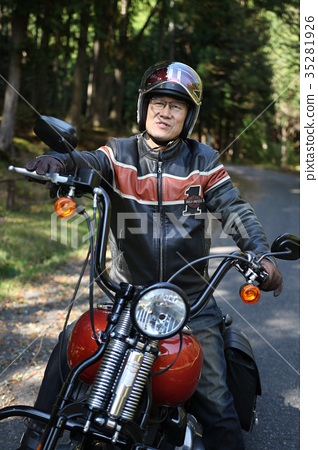helmet: (134, 67, 209, 138)
